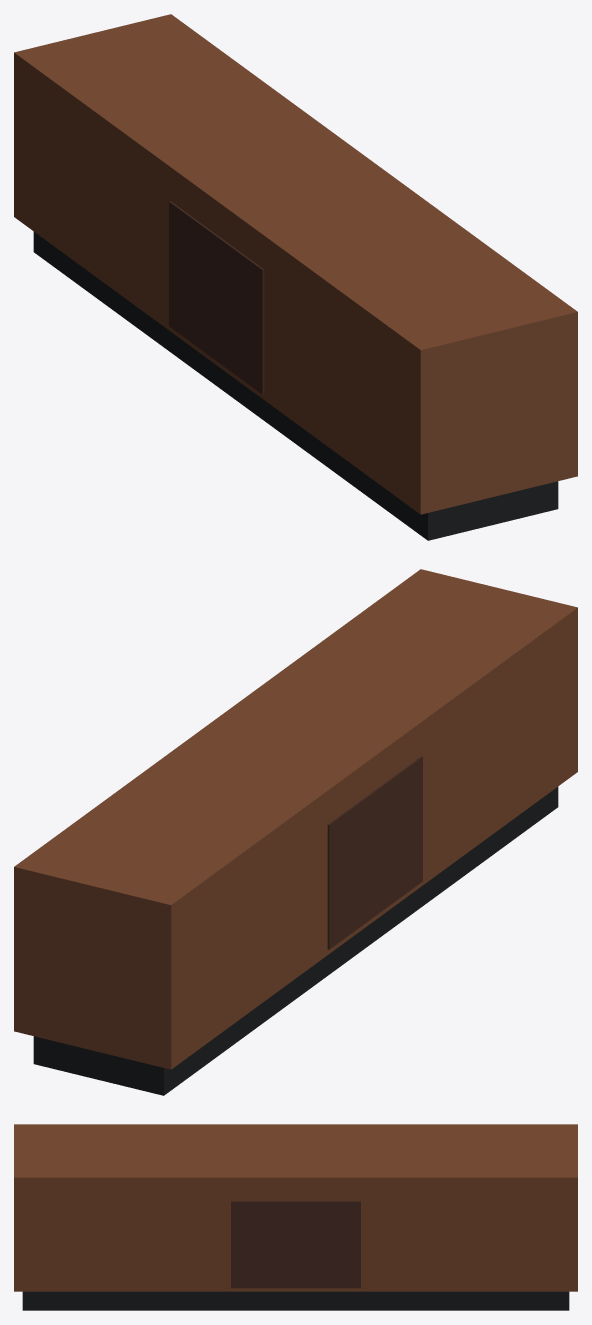
File: train-car-0.glb
3 views of the same model, one above another, from view 1: azimuth 30°, elevation 25°; view 2: azimuth 150°, elevation 25°; view 3: azimuth 270°, elevation 25° (orthographic). The views are drawn at different scales.
Visible parts, largest first — view 1: 01_paint0, 00_#1e2022, 02_#4a2e24_noshadow; view 2: 01_paint0, 00_#1e2022, 02_#4a2e24_noshadow; view 3: 01_paint0, 02_#4a2e24_noshadow, 00_#1e2022.
Boxes of the visible parts, x1,y1,x2,y2 form: 01_paint0: (14, 14, 577, 514); 00_#1e2022: (33, 231, 558, 540); 02_#4a2e24_noshadow: (169, 201, 264, 394); 01_paint0: (14, 569, 577, 1069); 00_#1e2022: (33, 786, 558, 1095); 02_#4a2e24_noshadow: (327, 756, 422, 949); 01_paint0: (14, 1124, 577, 1291); 02_#4a2e24_noshadow: (231, 1201, 360, 1288); 00_#1e2022: (22, 1291, 569, 1310).
Size of the model in its own units: 2.96 by 3.5 by 13.
